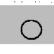no answer: (20, 17, 45, 43)
